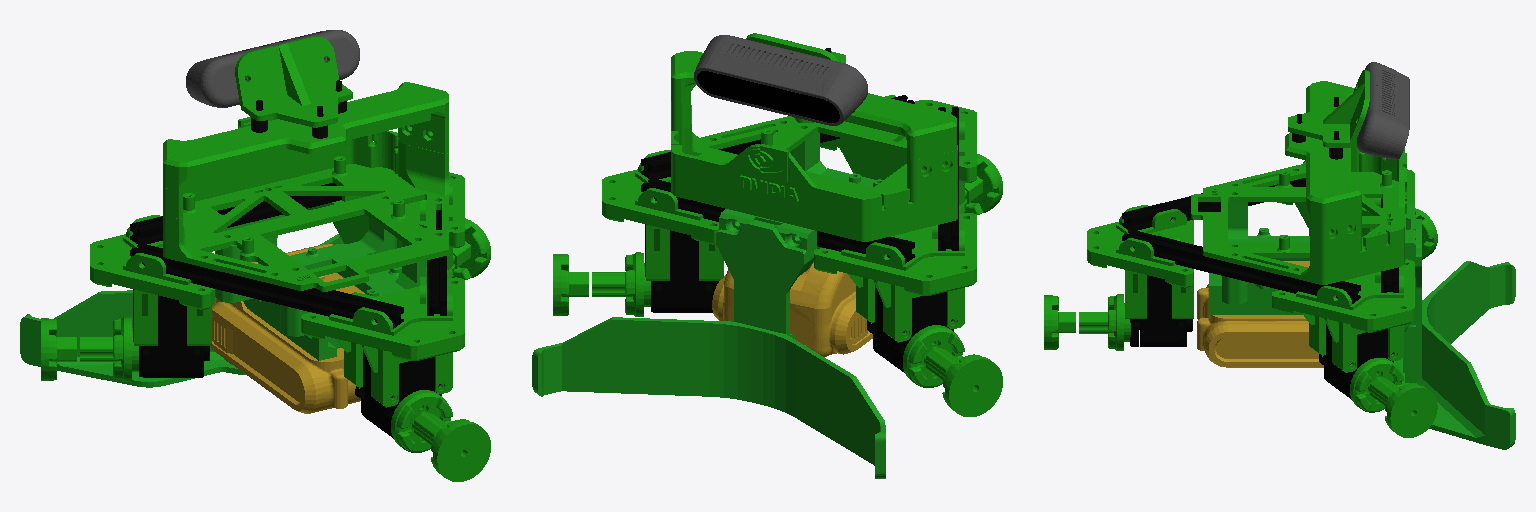
--- Render facts (derived) ---
Views: 3 orthographic renders of the robot side by side, from view 1: azimuth 30°, elevation 25°; view 2: azimuth 150°, elevation 25°; view 3: azimuth 270°, elevation 25°.
Robot: kaya — 45 links, 44 joints (33 continuous, 11 fixed); root link base_link; default pose: every joint at zero.
Visible links, largest first — view 1: base_link, assembly_battery, pusher, axle_0, axle_2, mx12w_2, mx12w_0, axle_1; view 2: base_link, pusher, assembly_battery, axle_2, axle_1, mx12w_1, mx12w_2, axle_0; view 3: base_link, pusher, assembly_battery, axle_1, axle_0, mx12w_0, mx12w_1, axle_2.
Boxes of the visible links, x1=… form: base_link: x1=90, y1=30, x2=464, y2=407; assembly_battery: x1=210, y1=218, x2=426, y2=413; pusher: x1=20, y1=215, x2=343, y2=387; axle_0: x1=391, y1=390, x2=490, y2=481; axle_2: x1=41, y1=317, x2=138, y2=381; mx12w_2: x1=133, y1=289, x2=209, y2=377; mx12w_0: x1=355, y1=350, x2=441, y2=438; axle_1: x1=447, y1=218, x2=490, y2=279; base_link: x1=602, y1=33, x2=976, y2=342; pusher: x1=532, y1=209, x2=885, y2=478; assembly_battery: x1=712, y1=132, x2=882, y2=356; axle_2: x1=903, y1=325, x2=1002, y2=416; axle_1: x1=553, y1=252, x2=650, y2=316; mx12w_1: x1=645, y1=224, x2=718, y2=312; mx12w_2: x1=867, y1=285, x2=953, y2=372; axle_0: x1=959, y1=154, x2=1002, y2=214; base_link: x1=1087, y1=62, x2=1414, y2=372; pusher: x1=1394, y1=205, x2=1515, y2=449; assembly_battery: x1=1197, y1=202, x2=1323, y2=367; axle_1: x1=1350, y1=358, x2=1437, y2=437; axle_0: x1=1044, y1=294, x2=1130, y2=350; mx12w_0: x1=1130, y1=275, x2=1192, y2=346; mx12w_1: x1=1319, y1=324, x2=1393, y2=399; axle_2: x1=1416, y1=209, x2=1437, y2=259.
Size in the robot's own frame: 0.2567 by 0.2663 by 0.1828 metres.
16 mesh visuals loaded from 11 distinct referenced files (10 Collada DAE); not drawn: 3 (reference not matched to a file when rendering).

URDF robot description (kaya):
<?xml version="1.0" ?>
<!-- =================================================================================== -->
<!-- |    This document was autogenerated by xacro from kaya.xacro                     | -->
<!-- |    EDITING THIS FILE BY HAND IS NOT RECOMMENDED                                 | -->
<!-- =================================================================================== -->
<robot name="kaya">
  <link name="base_link">
    <visual>
      <geometry>
        <mesh filename="package://meshes/base.dae" scale="0.1 0.1 0.1"/>
      </geometry>
    </visual>
    <visual>
      <origin xyz="0.000825 0.077436 0.024927"/>
      <geometry>
        <mesh filename="package://meshes/nano_chassis_base.dae" scale="0.1 0.1 0.1"/>
      </geometry>
    </visual>
    <visual>
      <origin xyz="0.001140 0.071549 0.062302"/>
      <geometry>
        <mesh filename="package://meshes/nano_chassis_bridge.dae" scale="0.1 0.1 0.1"/>
      </geometry>
    </visual>
    <visual>
      <origin xyz="0.001192 0.079804 0.084978"/>
      <geometry>
        <mesh filename="package://meshes/nano_chassis_rs_mount.dae" scale="0.1 0.1 0.1"/>
      </geometry>
    </visual>
    <visual>
      <origin xyz="0.001053 0.090384 0.090843"/>
      <geometry>
        <mesh filename="package://meshes/realsense.dae" scale="0.1 0.1 0.1"/>
      </geometry>
    </visual>
    <!-- <collision>
			<geometry>
				<mesh filename="package://meshes/base_collision.dae" scale="0.1 0.1 0.1"/>
			</geometry>
		</collision>
		<inertial>
			<mass value="0.1"/>
		</inertial> -->
  </link>
  <link name="assembly_battery">
    <visual>
      <geometry>
        <mesh filename="package://meshes/assembly_battery.dae" scale="0.1 0.1 0.1"/>
      </geometry>
    </visual>
    <collision>
      <origin rpy="0 0 0" xyz="0.0000033 -0.00127 0.000241"/>
      <geometry>
        <box size="0.0770 0.1140 0.0486"/>
      </geometry>
    </collision>
    <inertial>
      <origin rpy="0 0 0" xyz="0.00033 -0.00127 0.000241"/>
      <mass value="0.4266108"/>
      <inertia ixx="0.0005459893001640001" ixy="0" ixz="0" iyy="0.00029475108986400003" iyz="0" izz="0.0006728007825000001"/>
    </inertial>
  </link>
  <joint name="assembly_battery_joint" type="fixed">
    <origin xyz="0.000996 0.055389 -0.033654"/>
    <parent link="base_link"/>
    <child link="assembly_battery"/>
  </joint>
  <link name="shock_mount_0">
    <visual>
      <geometry>
        <mesh filename="package://meshes/shock_mount.dae" scale="0.1 0.1 0.1"/>
      </geometry>
    </visual>
  </link>
  <joint name="shock_mount_0_joint" type="fixed">
    <origin xyz="-0.021377 0.075734 0.073117"/>
    <parent link="base_link"/>
    <child link="shock_mount_0"/>
  </joint>
  <link name="shock_mount_1">
    <visual>
      <geometry>
        <mesh filename="package://meshes/shock_mount.dae" scale="0.1 0.1 0.1"/>
      </geometry>
    </visual>
  </link>
  <joint name="shock_mount_1_joint" type="fixed">
    <origin xyz=" 0.023644 0.075734 0.073117"/>
    <parent link="base_link"/>
    <child link="shock_mount_1"/>
  </joint>
  <link name="shock_mount_2">
    <visual>
      <geometry>
        <mesh filename="package://meshes/shock_mount.dae" scale="0.1 0.1 0.1"/>
      </geometry>
    </visual>
  </link>
  <joint name="shock_mount_2_joint" type="fixed">
    <origin xyz=" 0.001141 0.054717 0.073117"/>
    <parent link="base_link"/>
    <child link="shock_mount_2"/>
  </joint>
  <link name="pusher">
    <visual>
      <geometry>
        <mesh filename="package://meshes/pusher.dae" scale="0.1 0.1 0.1"/>
      </geometry>
    </visual>
    <collision>
      <origin rpy="0 0 0" xyz="        0 -0.000983 -0.047219"/>
      <geometry>
        <box size="0.0290 0.0090 0.0952"/>
      </geometry>
    </collision>
    <collision>
      <origin rpy="0 0 -0.41888" xyz="-0.049078  0.017466 -0.074854"/>
      <geometry>
        <box size="0.0904 0.0056 0.0394"/>
      </geometry>
    </collision>
    <collision>
      <origin rpy="0 0  0.41888" xyz=" 0.049078  0.017466 -0.074854"/>
      <geometry>
        <box size="0.0904 0.0056 0.0394"/>
      </geometry>
    </collision>
    <collision>
      <origin rpy="0 0 -1.05770" xyz="-0.095612  0.044530 -0.081565"/>
      <geometry>
        <box size="0.0198 0.0056 0.0258"/>
      </geometry>
    </collision>
    <collision>
      <origin rpy="0 0  1.05770" xyz=" 0.095612  0.044530 -0.081565"/>
      <geometry>
        <box size="0.0198 0.0056 0.0258"/>
      </geometry>
    </collision>
  </link>
  <joint name="pusher_joint" type="fixed">
    <origin xyz="0.0 0.124025 0.015933"/>
    <parent link="base_link"/>
    <child link="pusher"/>
  </joint>
  <link name="mx12w_0">
    <visual>
      <geometry>
        <mesh filename="package://meshes/mx12w.dae" scale="0.1 0.1 0.1"/>
      </geometry>
    </visual>
    <collision>
      <origin rpy="0 0 0" xyz="0 0 0"/>
      <geometry>
        <box size="0.0328 0.0380 0.0502"/>
      </geometry>
    </collision>
    <inertial>
      <origin rpy="0 0 0" xyz="0 0 0"/>
      <mass value="0.06256928"/>
      <inertia ixx="2.0668927390933334e-05" ixy="0" ixz="0" iyy="1.8749301880533337e-05" iyz="0" izz="1.3138714542933335e-05"/>
    </inertial>
  </link>
  <joint name="mx12w_0_joint" type="fixed">
    <origin rpy="0 0 0" xyz=" 0.000105 -0.025453 -0.032597"/>
    <parent link="base_link"/>
    <child link="mx12w_0"/>
  </joint>
  <link name="axle_0">
    <visual>
      <geometry>
        <mesh filename="package://meshes/axle.dae" scale="0.1 0.1 0.1"/>
      </geometry>
    </visual>
    <collision>
      <origin rpy="1.5707963267948966 0 0" xyz="0.0 -0.018622 0.0"/>
      <geometry>
        <cylinder length="0.0448" radius="0.0155"/>
      </geometry>
    </collision>
    <inertial>
      <origin rpy="1.5707963267948966 0 0" xyz="0.0 -0.018622 0.0"/>
      <mass value="0.03381359004911766"/>
      <inertia ixx="7.686364400006887e-06" ixy="0" ixz="0" iyy="7.686364400006887e-06" iyz="0" izz="4.061857504650259e-06"/>
    </inertial>
  </link>
  <joint name="axle_0_joint" type="continuous">
    <origin xyz="-0.000105 -0.022823 -0.012904"/>
    <axis xyz="0 -1 0"/>
    <parent link="mx12w_0"/>
    <child link="axle_0"/>
  </joint>
  <link name="wheel_0">
    <visual>
      <geometry>
        <mesh filename="package://meshes/wheel_and_rollers.dae" scale="0.1 0.1 0.1"/>
      </geometry>
    </visual>
    <collision>
      <origin rpy="1.5707963267948966 0 0" xyz="0 0 0"/>
      <geometry>
        <cylinder length="0.0292" radius="0.034"/>
      </geometry>
    </collision>
    <inertial>
      <origin rpy="1.5707963267948966 0 0" xyz="0 0 0"/>
      <mass value="0.131073930816933"/>
      <inertia ixx="5.613415852476245e-05" ixy="0" ixz="0" iyy="5.613415852476245e-05" iyz="0" izz="9.364183765423327e-05"/>
    </inertial>
  </link>
  <joint name="wheel_0_joint" type="fixed">
    <origin xyz="-0.000023 -0.019556 -0.000006"/>
    <axis xyz="0 -1 0"/>
    <parent link="axle_0"/>
    <child link="wheel_0"/>
  </joint>
  <link name="roller_0_0_0">
    <collision>
      <origin rpy="0 0 0" xyz="0 0 0"/>
      <geometry>
        <sphere radius="0.02"/>
      </geometry>
    </collision>
    <inertial>
      <origin rpy="0 0 0" xyz="0 0 0"/>
      <mass value="0.03351032163829113"/>
      <inertia ixx="5.361651462126582e-06" ixy="0" ixz="0" iyy="5.361651462126582e-06" iyz="0" izz="5.361651462126582e-06"/>
    </inertial>
  </link>
  <joint name="roller_0_0_0_joint" type="continuous">
    <origin rpy="0 -0.0 0" xyz="0.0       0.009521       -0.021319"/>
    <parent link="wheel_0"/>
    <child link="roller_0_0_0"/>
  </joint>
  <link name="roller_0_0_1">
    <collision>
      <origin rpy="0 0 0" xyz="0 0 0"/>
      <geometry>
        <sphere radius="0.02"/>
      </geometry>
    </collision>
    <inertial>
      <origin rpy="0 0 0" xyz="0 0 0"/>
      <mass value="0.03351032163829113"/>
      <inertia ixx="5.361651462126582e-06" ixy="0" ixz="0" iyy="5.361651462126582e-06" iyz="0" izz="5.361651462126582e-06"/>
    </inertial>
  </link>
  <joint name="roller_0_0_1_joint" type="continuous">
    <origin rpy="0 -1.2566370614359172 0" xyz="0.02027557387089638       0.009521       -0.006587933303079505"/>
    <parent link="wheel_0"/>
    <child link="roller_0_0_1"/>
  </joint>
  <link name="roller_0_0_2">
    <collision>
      <origin rpy="0 0 0" xyz="0 0 0"/>
      <geometry>
        <sphere radius="0.02"/>
      </geometry>
    </collision>
    <inertial>
      <origin rpy="0 0 0" xyz="0 0 0"/>
      <mass value="0.03351032163829113"/>
      <inertia ixx="5.361651462126582e-06" ixy="0" ixz="0" iyy="5.361651462126582e-06" iyz="0" izz="5.361651462126582e-06"/>
    </inertial>
  </link>
  <joint name="roller_0_0_2_joint" type="continuous">
    <origin rpy="0 -2.5132741228718345 0" xyz="0.012530993793623237       0.009521       0.017247433303079502"/>
    <parent link="wheel_0"/>
    <child link="roller_0_0_2"/>
  </joint>
  <link name="roller_0_0_3">
    <collision>
      <origin rpy="0 0 0" xyz="0 0 0"/>
      <geometry>
        <sphere radius="0.02"/>
      </geometry>
    </collision>
    <inertial>
      <origin rpy="0 0 0" xyz="0 0 0"/>
      <mass value="0.03351032163829113"/>
      <inertia ixx="5.361651462126582e-06" ixy="0" ixz="0" iyy="5.361651462126582e-06" iyz="0" izz="5.361651462126582e-06"/>
    </inertial>
  </link>
  <joint name="roller_0_0_3_joint" type="continuous">
    <origin rpy="0 -3.769911184307752 0" xyz="-0.01253099379362324       0.009521       0.017247433303079502"/>
    <parent link="wheel_0"/>
    <child link="roller_0_0_3"/>
  </joint>
  <link name="roller_0_0_4">
    <collision>
      <origin rpy="0 0 0" xyz="0 0 0"/>
      <geometry>
        <sphere radius="0.02"/>
      </geometry>
    </collision>
    <inertial>
      <origin rpy="0 0 0" xyz="0 0 0"/>
      <mass value="0.03351032163829113"/>
      <inertia ixx="5.361651462126582e-06" ixy="0" ixz="0" iyy="5.361651462126582e-06" iyz="0" izz="5.361651462126582e-06"/>
    </inertial>
  </link>
  <joint name="roller_0_0_4_joint" type="continuous">
    <origin rpy="0 -5.026548245743669 0" xyz="-0.02027557387089638       0.009521       -0.0065879333030795005"/>
    <parent link="wheel_0"/>
    <child link="roller_0_0_4"/>
  </joint>
  <link name="roller_0_1_0">
    <collision>
      <origin rpy="0 0 0" xyz="0 0 0"/>
      <geometry>
        <sphere radius="0.02"/>
      </geometry>
    </collision>
    <inertial>
      <origin rpy="0 0 0" xyz="0 0 0"/>
      <mass value="0.03351032163829113"/>
      <inertia ixx="5.361651462126582e-06" ixy="0" ixz="0" iyy="5.361651462126582e-06" iyz="0" izz="5.361651462126582e-06"/>
    </inertial>
  </link>
  <joint name="roller_0_1_0_joint" type="continuous">
    <origin rpy="0 -0.6283185307179586 0" xyz="0.012530993793623236       -0.009521       -0.017247433303079505"/>
    <parent link="wheel_0"/>
    <child link="roller_0_1_0"/>
  </joint>
  <link name="roller_0_1_1">
    <collision>
      <origin rpy="0 0 0" xyz="0 0 0"/>
      <geometry>
        <sphere radius="0.02"/>
      </geometry>
    </collision>
    <inertial>
      <origin rpy="0 0 0" xyz="0 0 0"/>
      <mass value="0.03351032163829113"/>
      <inertia ixx="5.361651462126582e-06" ixy="0" ixz="0" iyy="5.361651462126582e-06" iyz="0" izz="5.361651462126582e-06"/>
    </inertial>
  </link>
  <joint name="roller_0_1_1_joint" type="continuous">
    <origin rpy="0 -1.884955592153876 0" xyz="0.02027557387089638       -0.009521       0.0065879333030795075"/>
    <parent link="wheel_0"/>
    <child link="roller_0_1_1"/>
  </joint>
  <link name="roller_0_1_2">
    <collision>
      <origin rpy="0 0 0" xyz="0 0 0"/>
      <geometry>
        <sphere radius="0.02"/>
      </geometry>
    </collision>
    <inertial>
      <origin rpy="0 0 0" xyz="0 0 0"/>
      <mass value="0.03351032163829113"/>
      <inertia ixx="5.361651462126582e-06" ixy="0" ixz="0" iyy="5.361651462126582e-06" iyz="0" izz="5.361651462126582e-06"/>
    </inertial>
  </link>
  <joint name="roller_0_1_2_joint" type="continuous">
    <origin rpy="0 -3.141592653589793 0" xyz="2.6108245111022423e-18       -0.009521       0.021319"/>
    <parent link="wheel_0"/>
    <child link="roller_0_1_2"/>
  </joint>
  <link name="roller_0_1_3">
    <collision>
      <origin rpy="0 0 0" xyz="0 0 0"/>
      <geometry>
        <sphere radius="0.02"/>
      </geometry>
    </collision>
    <inertial>
      <origin rpy="0 0 0" xyz="0 0 0"/>
      <mass value="0.03351032163829113"/>
      <inertia ixx="5.361651462126582e-06" ixy="0" ixz="0" iyy="5.361651462126582e-06" iyz="0" izz="5.361651462126582e-06"/>
    </inertial>
  </link>
  <joint name="roller_0_1_3_joint" type="continuous">
    <origin rpy="0 -4.39822971502571 0" xyz="-0.02027557387089638       -0.009521       0.0065879333030795075"/>
    <parent link="wheel_0"/>
    <child link="roller_0_1_3"/>
  </joint>
  <link name="roller_0_1_4">
    <collision>
      <origin rpy="0 0 0" xyz="0 0 0"/>
      <geometry>
        <sphere radius="0.02"/>
      </geometry>
    </collision>
    <inertial>
      <origin rpy="0 0 0" xyz="0 0 0"/>
      <mass value="0.03351032163829113"/>
      <inertia ixx="5.361651462126582e-06" ixy="0" ixz="0" iyy="5.361651462126582e-06" iyz="0" izz="5.361651462126582e-06"/>
    </inertial>
  </link>
  <joint name="roller_0_1_4_joint" type="continuous">
    <origin rpy="0 -5.654866776461628 0" xyz="-0.01253099379362324       -0.009521       -0.017247433303079502"/>
    <parent link="wheel_0"/>
    <child link="roller_0_1_4"/>
  </joint>
  <link name="mx12w_1">
    <visual>
      <geometry>
        <mesh filename="package://meshes/mx12w.dae" scale="0.1 0.1 0.1"/>
      </geometry>
    </visual>
    <collision>
      <origin rpy="0 0 0" xyz="0 0 0"/>
      <geometry>
        <box size="0.0328 0.0380 0.0502"/>
      </geometry>
    </collision>
    <inertial>
      <origin rpy="0 0 0" xyz="0 0 0"/>
      <mass value="0.06256928"/>
      <inertia ixx="2.0668927390933334e-05" ixy="0" ixz="0" iyy="1.8749301880533337e-05" iyz="0" izz="1.3138714542933335e-05"/>
    </inertial>
  </link>
  <joint name="mx12w_1_joint" type="fixed">
    <origin rpy="0 0 2.0944" xyz=" 0.065344  0.087794 -0.032597"/>
    <parent link="base_link"/>
    <child link="mx12w_1"/>
  </joint>
  <link name="axle_1">
    <visual>
      <geometry>
        <mesh filename="package://meshes/axle.dae" scale="0.1 0.1 0.1"/>
      </geometry>
    </visual>
    <collision>
      <origin rpy="1.5707963267948966 0 0" xyz="0.0 -0.018622 0.0"/>
      <geometry>
        <cylinder length="0.0448" radius="0.0155"/>
      </geometry>
    </collision>
    <inertial>
      <origin rpy="1.5707963267948966 0 0" xyz="0.0 -0.018622 0.0"/>
      <mass value="0.03381359004911766"/>
      <inertia ixx="7.686364400006887e-06" ixy="0" ixz="0" iyy="7.686364400006887e-06" iyz="0" izz="4.061857504650259e-06"/>
    </inertial>
  </link>
  <joint name="axle_1_joint" type="continuous">
    <origin xyz="-0.000105 -0.022823 -0.012904"/>
    <axis xyz="0 -1 0"/>
    <parent link="mx12w_1"/>
    <child link="axle_1"/>
  </joint>
  <link name="wheel_1">
    <visual>
      <geometry>
        <mesh filename="package://meshes/wheel_and_rollers.dae" scale="0.1 0.1 0.1"/>
      </geometry>
    </visual>
    <collision>
      <origin rpy="1.5707963267948966 0 0" xyz="0 0 0"/>
      <geometry>
        <cylinder length="0.0292" radius="0.034"/>
      </geometry>
    </collision>
    <inertial>
      <origin rpy="1.5707963267948966 0 0" xyz="0 0 0"/>
      <mass value="0.131073930816933"/>
      <inertia ixx="5.613415852476245e-05" ixy="0" ixz="0" iyy="5.613415852476245e-05" iyz="0" izz="9.364183765423327e-05"/>
    </inertial>
  </link>
  <joint name="wheel_1_joint" type="fixed">
    <origin xyz="-0.000023 -0.019556 -0.000006"/>
    <axis xyz="0 -1 0"/>
    <parent link="axle_1"/>
    <child link="wheel_1"/>
  </joint>
  <link name="roller_1_0_0">
    <collision>
      <origin rpy="0 0 0" xyz="0 0 0"/>
      <geometry>
        <sphere radius="0.02"/>
      </geometry>
    </collision>
    <inertial>
      <origin rpy="0 0 0" xyz="0 0 0"/>
      <mass value="0.03351032163829113"/>
      <inertia ixx="5.361651462126582e-06" ixy="0" ixz="0" iyy="5.361651462126582e-06" iyz="0" izz="5.361651462126582e-06"/>
    </inertial>
  </link>
  <joint name="roller_1_0_0_joint" type="continuous">
    <origin rpy="0 -0.0 0" xyz="0.0       0.009521       -0.021319"/>
    <parent link="wheel_1"/>
    <child link="roller_1_0_0"/>
  </joint>
  <link name="roller_1_0_1">
    <collision>
      <origin rpy="0 0 0" xyz="0 0 0"/>
      <geometry>
        <sphere radius="0.02"/>
      </geometry>
    </collision>
    <inertial>
      <origin rpy="0 0 0" xyz="0 0 0"/>
      <mass value="0.03351032163829113"/>
      <inertia ixx="5.361651462126582e-06" ixy="0" ixz="0" iyy="5.361651462126582e-06" iyz="0" izz="5.361651462126582e-06"/>
    </inertial>
  </link>
  <joint name="roller_1_0_1_joint" type="continuous">
    <origin rpy="0 -1.2566370614359172 0" xyz="0.02027557387089638       0.009521       -0.006587933303079505"/>
    <parent link="wheel_1"/>
    <child link="roller_1_0_1"/>
  </joint>
  <link name="roller_1_0_2">
    <collision>
      <origin rpy="0 0 0" xyz="0 0 0"/>
      <geometry>
        <sphere radius="0.02"/>
      </geometry>
    </collision>
    <inertial>
      <origin rpy="0 0 0" xyz="0 0 0"/>
      <mass value="0.03351032163829113"/>
      <inertia ixx="5.361651462126582e-06" ixy="0" ixz="0" iyy="5.361651462126582e-06" iyz="0" izz="5.361651462126582e-06"/>
    </inertial>
  </link>
  <joint name="roller_1_0_2_joint" type="continuous">
    <origin rpy="0 -2.5132741228718345 0" xyz="0.012530993793623237       0.009521       0.017247433303079502"/>
    <parent link="wheel_1"/>
    <child link="roller_1_0_2"/>
  </joint>
  <link name="roller_1_0_3">
    <collision>
      <origin rpy="0 0 0" xyz="0 0 0"/>
      <geometry>
        <sphere radius="0.02"/>
      </geometry>
    </collision>
    <inertial>
      <origin rpy="0 0 0" xyz="0 0 0"/>
      <mass value="0.03351032163829113"/>
      <inertia ixx="5.361651462126582e-06" ixy="0" ixz="0" iyy="5.361651462126582e-06" iyz="0" izz="5.361651462126582e-06"/>
    </inertial>
  </link>
  <joint name="roller_1_0_3_joint" type="continuous">
    <origin rpy="0 -3.769911184307752 0" xyz="-0.01253099379362324       0.009521       0.017247433303079502"/>
    <parent link="wheel_1"/>
    <child link="roller_1_0_3"/>
  </joint>
  <link name="roller_1_0_4">
    <collision>
      <origin rpy="0 0 0" xyz="0 0 0"/>
      <geometry>
        <sphere radius="0.02"/>
      </geometry>
    </collision>
    <inertial>
      <origin rpy="0 0 0" xyz="0 0 0"/>
      <mass value="0.03351032163829113"/>
      <inertia ixx="5.361651462126582e-06" ixy="0" ixz="0" iyy="5.361651462126582e-06" iyz="0" izz="5.361651462126582e-06"/>
    </inertial>
  </link>
  <joint name="roller_1_0_4_joint" type="continuous">
    <origin rpy="0 -5.026548245743669 0" xyz="-0.02027557387089638       0.009521       -0.0065879333030795005"/>
    <parent link="wheel_1"/>
    <child link="roller_1_0_4"/>
  </joint>
  <link name="roller_1_1_0">
    <collision>
      <origin rpy="0 0 0" xyz="0 0 0"/>
      <geometry>
        <sphere radius="0.02"/>
      </geometry>
    </collision>
    <inertial>
      <origin rpy="0 0 0" xyz="0 0 0"/>
      <mass value="0.03351032163829113"/>
      <inertia ixx="5.361651462126582e-06" ixy="0" ixz="0" iyy="5.361651462126582e-06" iyz="0" izz="5.361651462126582e-06"/>
    </inertial>
  </link>
  <joint name="roller_1_1_0_joint" type="continuous">
    <origin rpy="0 -0.6283185307179586 0" xyz="0.012530993793623236       -0.009521       -0.017247433303079505"/>
    <parent link="wheel_1"/>
    <child link="roller_1_1_0"/>
  </joint>
  <link name="roller_1_1_1">
    <collision>
      <origin rpy="0 0 0" xyz="0 0 0"/>
      <geometry>
        <sphere radius="0.02"/>
      </geometry>
    </collision>
    <inertial>
      <origin rpy="0 0 0" xyz="0 0 0"/>
      <mass value="0.03351032163829113"/>
      <inertia ixx="5.361651462126582e-06" ixy="0" ixz="0" iyy="5.361651462126582e-06" iyz="0" izz="5.361651462126582e-06"/>
    </inertial>
  </link>
  <joint name="roller_1_1_1_joint" type="continuous">
    <origin rpy="0 -1.884955592153876 0" xyz="0.02027557387089638       -0.009521       0.0065879333030795075"/>
    <parent link="wheel_1"/>
    <child link="roller_1_1_1"/>
  </joint>
  <link name="roller_1_1_2">
    <collision>
      <origin rpy="0 0 0" xyz="0 0 0"/>
      <geometry>
        <sphere radius="0.02"/>
      </geometry>
    </collision>
    <inertial>
      <origin rpy="0 0 0" xyz="0 0 0"/>
      <mass value="0.03351032163829113"/>
      <inertia ixx="5.361651462126582e-06" ixy="0" ixz="0" iyy="5.361651462126582e-06" iyz="0" izz="5.361651462126582e-06"/>
    </inertial>
  </link>
  <joint name="roller_1_1_2_joint" type="continuous">
    <origin rpy="0 -3.141592653589793 0" xyz="2.6108245111022423e-18       -0.009521       0.021319"/>
    <parent link="wheel_1"/>
    <child link="roller_1_1_2"/>
  </joint>
  <link name="roller_1_1_3">
    <collision>
      <origin rpy="0 0 0" xyz="0 0 0"/>
      <geometry>
        <sphere radius="0.02"/>
      </geometry>
    </collision>
    <inertial>
      <origin rpy="0 0 0" xyz="0 0 0"/>
      <mass value="0.03351032163829113"/>
      <inertia ixx="5.361651462126582e-06" ixy="0" ixz="0" iyy="5.361651462126582e-06" iyz="0" izz="5.361651462126582e-06"/>
    </inertial>
  </link>
  <joint name="roller_1_1_3_joint" type="continuous">
    <origin rpy="0 -4.39822971502571 0" xyz="-0.02027557387089638       -0.009521       0.0065879333030795075"/>
    <parent link="wheel_1"/>
    <child link="roller_1_1_3"/>
  </joint>
  <link name="roller_1_1_4">
    <collision>
      <origin rpy="0 0 0" xyz="0 0 0"/>
      <geometry>
        <sphere radius="0.02"/>
      </geometry>
    </collision>
    <inertial>
      <origin rpy="0 0 0" xyz="0 0 0"/>
      <mass value="0.03351032163829113"/>
      <inertia ixx="5.361651462126582e-06" ixy="0" ixz="0" iyy="5.361651462126582e-06" iyz="0" izz="5.361651462126582e-06"/>
    </inertial>
  </link>
  <joint name="roller_1_1_4_joint" type="continuous">
    <origin rpy="0 -5.654866776461628 0" xyz="-0.01253099379362324       -0.009521       -0.017247433303079502"/>
    <parent link="wheel_1"/>
    <child link="roller_1_1_4"/>
  </joint>
  <link name="mx12w_2">
    <visual>
      <geometry>
        <mesh filename="package://meshes/mx12w.dae" scale="0.1 0.1 0.1"/>
      </geometry>
    </visual>
    <collision>
      <origin rpy="0 0 0" xyz="0 0 0"/>
      <geometry>
        <box size="0.0328 0.0380 0.0502"/>
      </geometry>
    </collision>
    <inertial>
      <origin rpy="0 0 0" xyz="0 0 0"/>
      <mass value="0.06256928"/>
      <inertia ixx="2.0668927390933334e-05" ixy="0" ixz="0" iyy="1.8749301880533337e-05" iyz="0" izz="1.3138714542933335e-05"/>
    </inertial>
  </link>
  <joint name="mx12w_2_joint" type="fixed">
    <origin rpy="0 0 4.1888" xyz="-0.065344  0.087794 -0.032597"/>
    <parent link="base_link"/>
    <child link="mx12w_2"/>
  </joint>
  <link name="axle_2">
    <visual>
      <geometry>
        <mesh filename="package://meshes/axle.dae" scale="0.1 0.1 0.1"/>
      </geometry>
    </visual>
    <collision>
      <origin rpy="1.5707963267948966 0 0" xyz="0.0 -0.018622 0.0"/>
      <geometry>
        <cylinder length="0.0448" radius="0.0155"/>
      </geometry>
    </collision>
    <inertial>
      <origin rpy="1.5707963267948966 0 0" xyz="0.0 -0.018622 0.0"/>
      <mass value="0.03381359004911766"/>
      <inertia ixx="7.686364400006887e-06" ixy="0" ixz="0" iyy="7.686364400006887e-06" iyz="0" izz="4.061857504650259e-06"/>
    </inertial>
  </link>
  <joint name="axle_2_joint" type="continuous">
    <origin xyz="-0.000105 -0.022823 -0.012904"/>
    <axis xyz="0 -1 0"/>
    <parent link="mx12w_2"/>
    <child link="axle_2"/>
  </joint>
  <link name="wheel_2">
    <visual>
      <geometry>
        <mesh filename="package://meshes/wheel_and_rollers.dae" scale="0.1 0.1 0.1"/>
      </geometry>
    </visual>
    <collision>
      <origin rpy="1.5707963267948966 0 0" xyz="0 0 0"/>
      <geometry>
        <cylinder length="0.0292" radius="0.034"/>
      </geometry>
    </collision>
    <inertial>
      <origin rpy="1.5707963267948966 0 0" xyz="0 0 0"/>
      <mass value="0.131073930816933"/>
      <inertia ixx="5.613415852476245e-05" ixy="0" ixz="0" iyy="5.613415852476245e-05" iyz="0" izz="9.364183765423327e-05"/>
    </inertial>
  </link>
  <joint name="wheel_2_joint" type="fixed">
    <origin xyz="-0.000023 -0.019556 -0.000006"/>
    <axis xyz="0 -1 0"/>
    <parent link="axle_2"/>
    <child link="wheel_2"/>
  </joint>
  <link name="roller_2_0_0">
    <collision>
      <origin rpy="0 0 0" xyz="0 0 0"/>
      <geometry>
        <sphere radius="0.02"/>
      </geometry>
    </collision>
    <inertial>
      <origin rpy="0 0 0" xyz="0 0 0"/>
      <mass value="0.03351032163829113"/>
      <inertia ixx="5.361651462126582e-06" ixy="0" ixz="0" iyy="5.361651462126582e-06" iyz="0" izz="5.361651462126582e-06"/>
    </inertial>
  </link>
  <joint name="roller_2_0_0_joint" type="continuous">
    <origin rpy="0 -0.0 0" xyz="0.0       0.009521       -0.021319"/>
    <parent link="wheel_2"/>
    <child link="roller_2_0_0"/>
  </joint>
  <link name="roller_2_0_1">
    <collision>
      <origin rpy="0 0 0" xyz="0 0 0"/>
      <geometry>
        <sphere radius="0.02"/>
      </geometry>
    </collision>
    <inertial>
      <origin rpy="0 0 0" xyz="0 0 0"/>
      <mass value="0.03351032163829113"/>
      <inertia ixx="5.361651462126582e-06" ixy="0" ixz="0" iyy="5.361651462126582e-06" iyz="0" izz="5.361651462126582e-06"/>
    </inertial>
  </link>
  <joint name="roller_2_0_1_joint" type="continuous">
    <origin rpy="0 -1.2566370614359172 0" xyz="0.02027557387089638       0.009521       -0.006587933303079505"/>
    <parent link="wheel_2"/>
    <child link="roller_2_0_1"/>
  </joint>
  <link name="roller_2_0_2">
    <collision>
      <origin rpy="0 0 0" xyz="0 0 0"/>
      <geometry>
        <sphere radius="0.02"/>
      </geometry>
    </collision>
    <inertial>
      <origin rpy="0 0 0" xyz="0 0 0"/>
      <mass value="0.03351032163829113"/>
      <inertia ixx="5.361651462126582e-06" ixy="0" ixz="0" iyy="5.361651462126582e-06" iyz="0" izz="5.361651462126582e-06"/>
    </inertial>
  </link>
  <joint name="roller_2_0_2_joint" type="continuous">
    <origin rpy="0 -2.5132741228718345 0" xyz="0.012530993793623237       0.009521       0.017247433303079502"/>
    <parent link="wheel_2"/>
    <child link="roller_2_0_2"/>
  </joint>
  <link name="roller_2_0_3">
    <collision>
      <origin rpy="0 0 0" xyz="0 0 0"/>
      <geometry>
        <sphere radius="0.02"/>
      </geometry>
    </collision>
    <inertial>
      <origin rpy="0 0 0" xyz="0 0 0"/>
      <mass value="0.03351032163829113"/>
      <inertia ixx="5.361651462126582e-06" ixy="0" ixz="0" iyy="5.361651462126582e-06" iyz="0" izz="5.361651462126582e-06"/>
    </inertial>
  </link>
  <joint name="roller_2_0_3_joint" type="continuous">
    <origin rpy="0 -3.769911184307752 0" xyz="-0.01253099379362324       0.009521       0.017247433303079502"/>
    <parent link="wheel_2"/>
    <child link="roller_2_0_3"/>
  </joint>
  <link name="roller_2_0_4">
    <collision>
      <origin rpy="0 0 0" xyz="0 0 0"/>
      <geometry>
        <sphere radius="0.02"/>
      </geometry>
    </collision>
    <inertial>
      <origin rpy="0 0 0" xyz="0 0 0"/>
      <mass value="0.03351032163829113"/>
      <inertia ixx="5.361651462126582e-06" ixy="0" ixz="0" iyy="5.361651462126582e-06" iyz="0" izz="5.361651462126582e-06"/>
    </inertial>
  </link>
  <joint name="roller_2_0_4_joint" type="continuous">
    <origin rpy="0 -5.026548245743669 0" xyz="-0.02027557387089638       0.009521       -0.0065879333030795005"/>
    <parent link="wheel_2"/>
    <child link="roller_2_0_4"/>
  </joint>
  <link name="roller_2_1_0">
    <collision>
      <origin rpy="0 0 0" xyz="0 0 0"/>
      <geometry>
        <sphere radius="0.02"/>
      </geometry>
    </collision>
    <inertial>
      <origin rpy="0 0 0" xyz="0 0 0"/>
      <mass value="0.03351032163829113"/>
      <inertia ixx="5.361651462126582e-06" ixy="0" ixz="0" iyy="5.361651462126582e-06" iyz="0" izz="5.361651462126582e-06"/>
    </inertial>
  </link>
  <joint name="roller_2_1_0_joint" type="continuous">
    <origin rpy="0 -0.6283185307179586 0" xyz="0.012530993793623236       -0.009521       -0.017247433303079505"/>
    <parent link="wheel_2"/>
    <child link="roller_2_1_0"/>
  </joint>
  <link name="roller_2_1_1">
    <collision>
      <origin rpy="0 0 0" xyz="0 0 0"/>
      <geometry>
        <sphere radius="0.02"/>
      </geometry>
    </collision>
    <inertial>
      <origin rpy="0 0 0" xyz="0 0 0"/>
      <mass value="0.03351032163829113"/>
      <inertia ixx="5.361651462126582e-06" ixy="0" ixz="0" iyy="5.361651462126582e-06" iyz="0" izz="5.361651462126582e-06"/>
    </inertial>
  </link>
  <joint name="roller_2_1_1_joint" type="continuous">
    <origin rpy="0 -1.884955592153876 0" xyz="0.02027557387089638       -0.009521       0.0065879333030795075"/>
    <parent link="wheel_2"/>
    <child link="roller_2_1_1"/>
  </joint>
  <link name="roller_2_1_2">
    <collision>
      <origin rpy="0 0 0" xyz="0 0 0"/>
      <geometry>
        <sphere radius="0.02"/>
      </geometry>
    </collision>
    <inertial>
      <origin rpy="0 0 0" xyz="0 0 0"/>
      <mass value="0.03351032163829113"/>
      <inertia ixx="5.361651462126582e-06" ixy="0" ixz="0" iyy="5.361651462126582e-06" iyz="0" izz="5.361651462126582e-06"/>
    </inertial>
  </link>
  <joint name="roller_2_1_2_joint" type="continuous">
    <origin rpy="0 -3.141592653589793 0" xyz="2.6108245111022423e-18       -0.009521       0.021319"/>
    <parent link="wheel_2"/>
    <child link="roller_2_1_2"/>
  </joint>
  <link name="roller_2_1_3">
    <collision>
      <origin rpy="0 0 0" xyz="0 0 0"/>
      <geometry>
        <sphere radius="0.02"/>
      </geometry>
    </collision>
    <inertial>
      <origin rpy="0 0 0" xyz="0 0 0"/>
      <mass value="0.03351032163829113"/>
      <inertia ixx="5.361651462126582e-06" ixy="0" ixz="0" iyy="5.361651462126582e-06" iyz="0" izz="5.361651462126582e-06"/>
    </inertial>
  </link>
  <joint name="roller_2_1_3_joint" type="continuous">
    <origin rpy="0 -4.39822971502571 0" xyz="-0.02027557387089638       -0.009521       0.0065879333030795075"/>
    <parent link="wheel_2"/>
    <child link="roller_2_1_3"/>
  </joint>
  <link name="roller_2_1_4">
    <collision>
      <origin rpy="0 0 0" xyz="0 0 0"/>
      <geometry>
        <sphere radius="0.02"/>
      </geometry>
    </collision>
    <inertial>
      <origin rpy="0 0 0" xyz="0 0 0"/>
      <mass value="0.03351032163829113"/>
      <inertia ixx="5.361651462126582e-06" ixy="0" ixz="0" iyy="5.361651462126582e-06" iyz="0" izz="5.361651462126582e-06"/>
    </inertial>
  </link>
  <joint name="roller_2_1_4_joint" type="continuous">
    <origin rpy="0 -5.654866776461628 0" xyz="-0.01253099379362324       -0.009521       -0.017247433303079502"/>
    <parent link="wheel_2"/>
    <child link="roller_2_1_4"/>
  </joint>
</robot>
